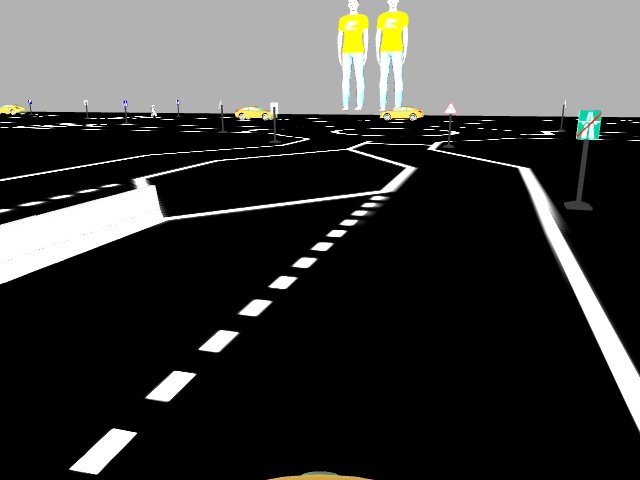HighwayExit: (573, 109, 603, 140)
